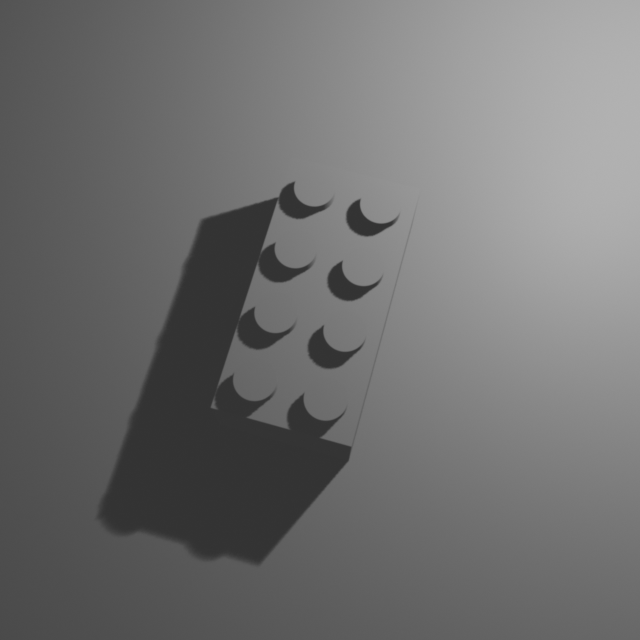lego_2x4: (209, 150, 422, 461)
